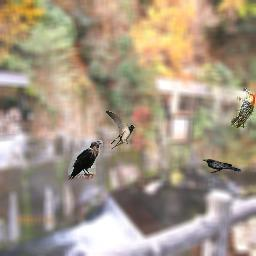Crow: (68, 140, 103, 180), (202, 159, 242, 173)
Swallow: (106, 111, 135, 151)
Woodpecker: (231, 88, 255, 128)
